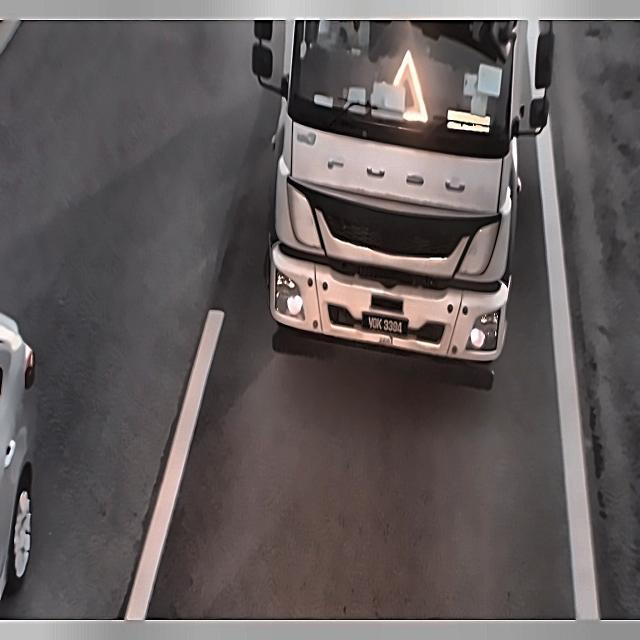car: (358, 306, 411, 338)
